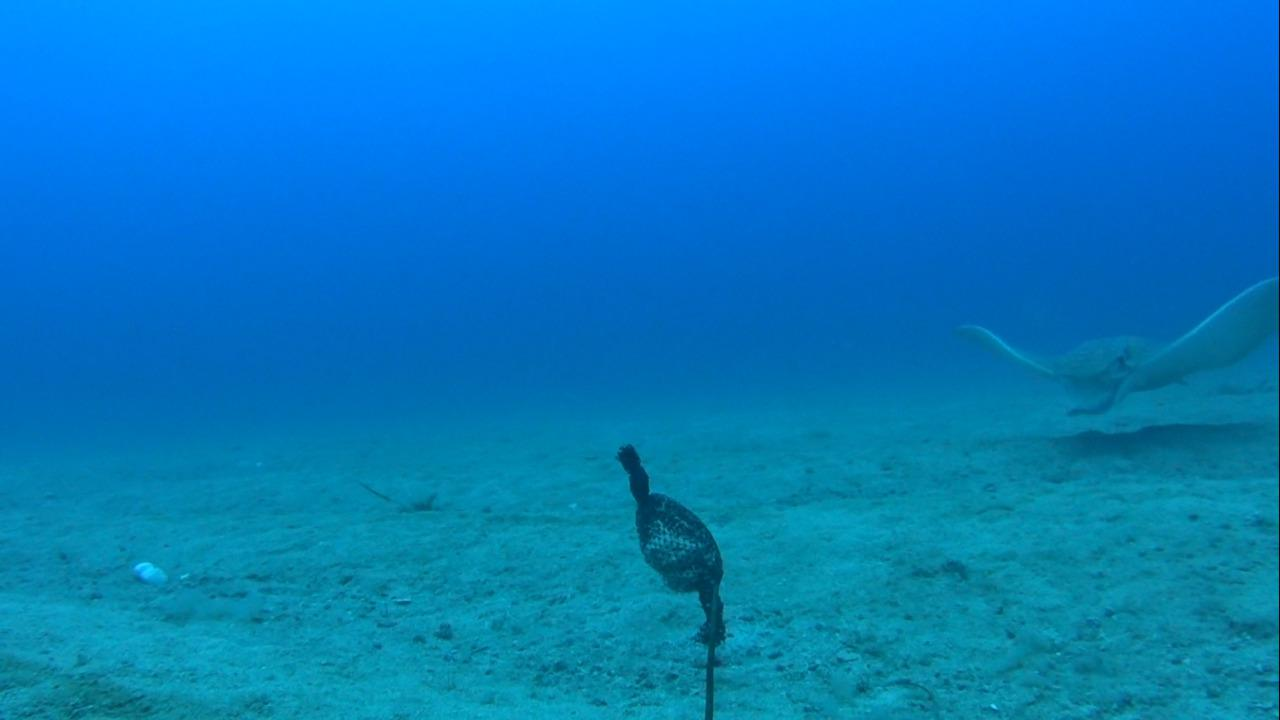myliobatis: (940, 268, 1279, 425)
